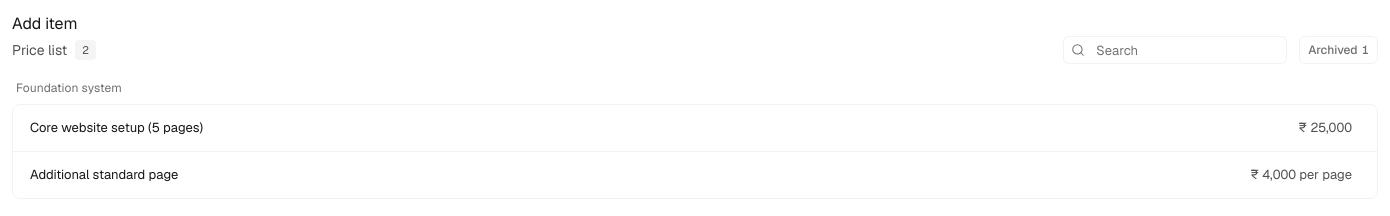
Test: the price list › finds items by name
The width and height of the screenshot is (1390, 216).
Type "additional" into the search field named "Search the price list" at (1175, 50), box 1063,36 -> 1287,64
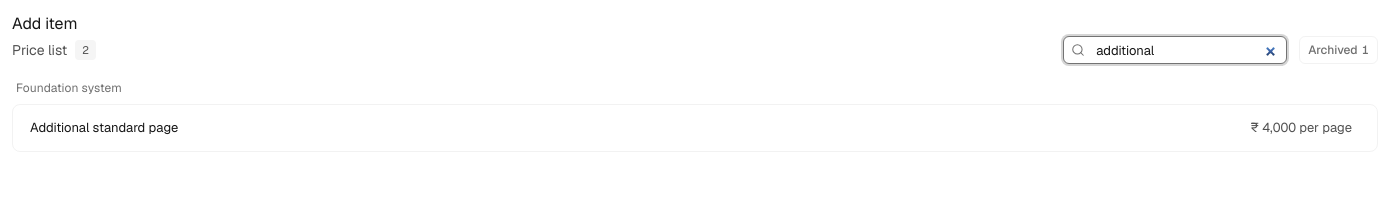
expect the button "Additional standard page" is shown: met, box 29,117 -> 1225,139
expect the button "Core website setup (5 pages)" is gone: met
